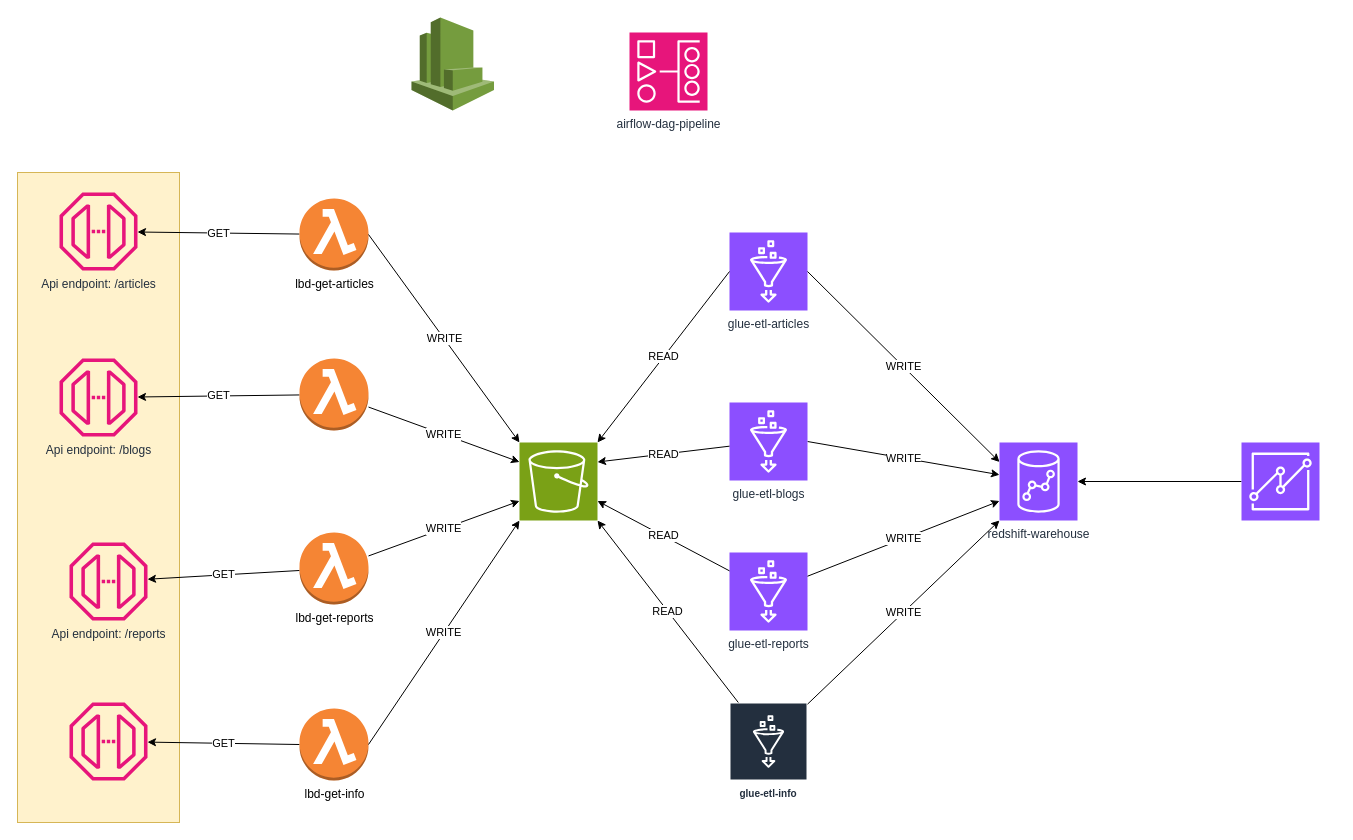
This 1353x840 diagram has some shape labels left out. The box of each missing label's shape, as (x1, y1, x2, y2) in pixels:
Api endpoint: /info: (69, 702, 147, 780)
API SPACEFLIGHT NEWS: (16, 172, 180, 822)
cloud-watch-monitoring: (410, 16, 494, 110)
lbd-get-blogs: (298, 358, 368, 430)
quicksigh-dashboard: (1240, 442, 1320, 520)
s3-raw-data: (518, 442, 598, 520)
